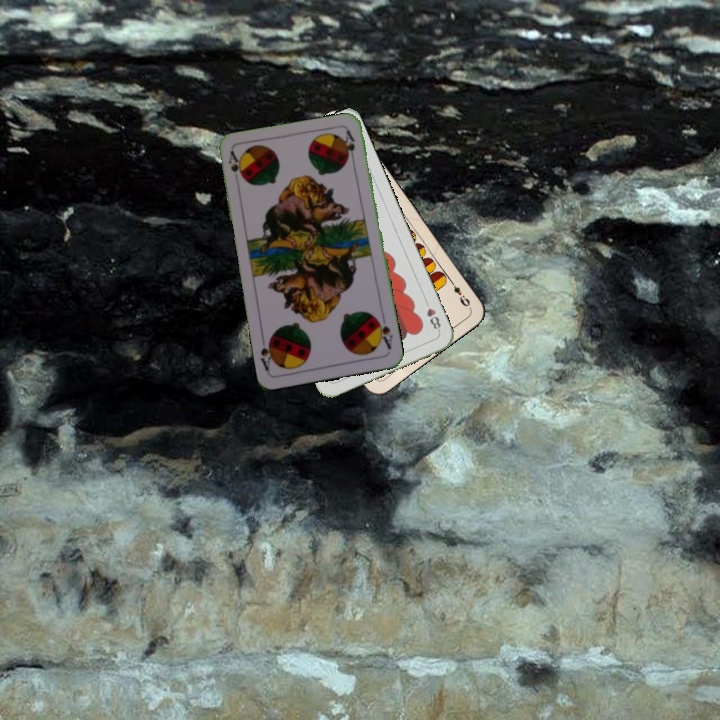E9: (445, 275, 473, 309)
H8: (420, 296, 443, 334)
SA: (372, 313, 395, 352), (224, 147, 246, 182)
